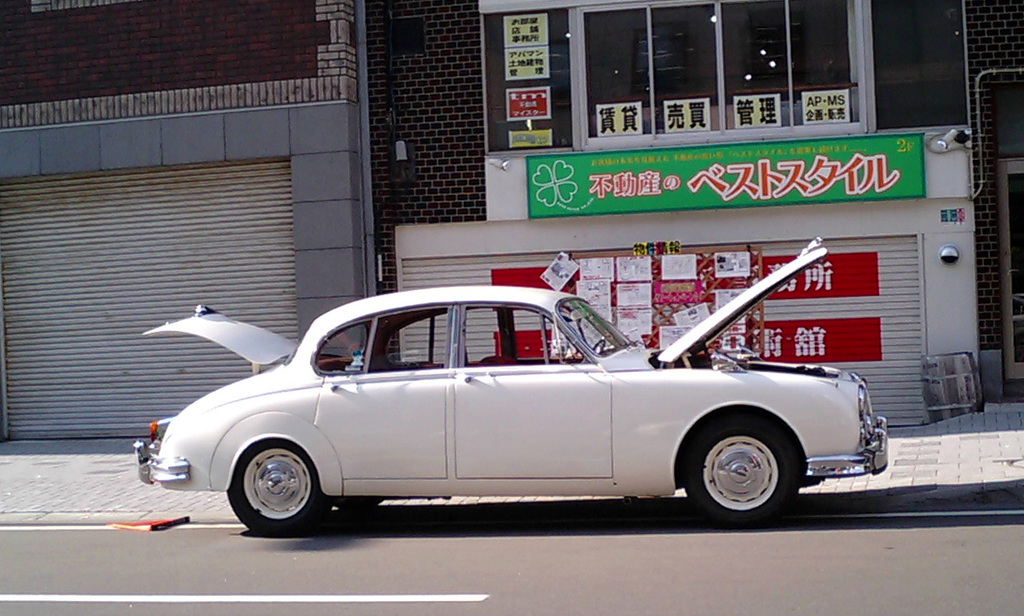Car: (125, 236, 891, 539)
